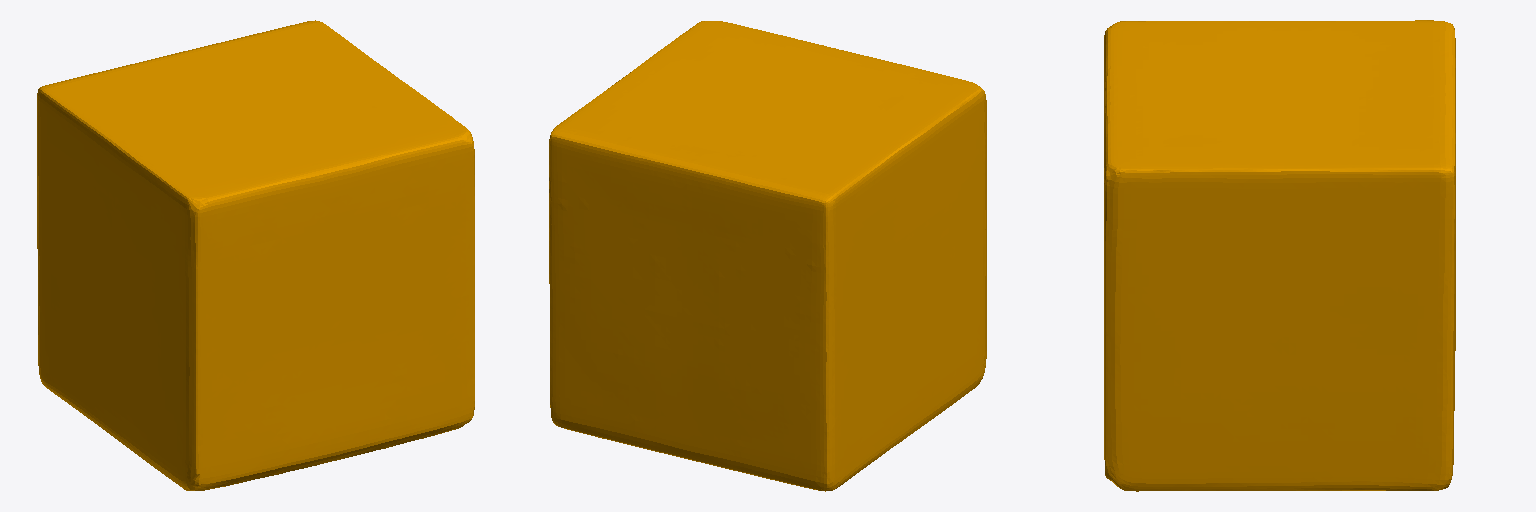
robot.urdf — cube:
<?xml version="1.0"?>
<robot name="cube">
  <link name="cube">
    <visual>
      <origin xyz="0.0 0.0 0.0"/>
      <geometry>
        <!-- <mesh filename="ycb/025_mug/textured.obj" scale="1. 1. 1."/> -->
        <!-- <mesh filename="ycb/rigid_body/red_mug.obj" scale="1. 1. 1."/> -->
        <mesh filename="ycb/red_cube/base.obj" scale="1. 1. 1."/>
      </geometry>
    </visual>
    <collision>
      <origin xyz="0.0 0.0 0.0"/>
      <geometry>
        <!-- <mesh filename="ycb/025_mug/mug_collision.obj" scale="1. 1. 1."/>-->
        <!-- <mesh filename="ycb/rigid_body/red_mug.obj" scale="1. 1. 1."/> -->
        <mesh filename="ycb/red_cube/base.obj" scale="1. 1. 1."/>        
      </geometry>
    </collision>
    <inertial>
      <mass value="0.2"/>
      <inertia ixx="0.0000" ixy="0.0" ixz="0.0" iyy="0.000" iyz="0.0" izz="0.000"/>
    </inertial>
  </link>
</robot>

--- Render facts (derived) ---
Views: 3 orthographic renders of the robot side by side, from view 1: azimuth 30°, elevation 25°; view 2: azimuth 150°, elevation 25°; view 3: azimuth 270°, elevation 25°.
Model cube with 1 links and 0 joints (none), rooted at cube, posed all joints at 0.
Links seen in each view (by area): view 1: cube; view 2: cube; view 3: cube.
Link boxes in pixels (<box>): cube: <box>37,20,474,490</box>; cube: <box>549,21,986,491</box>; cube: <box>1104,20,1455,491</box>.
Bounding box of the posed robot: 1.88 × 1.84 × 1.87 m (x, y, z).
Meshes: 1 distinct files referenced, 1 mesh visuals loaded (1 OBJ).